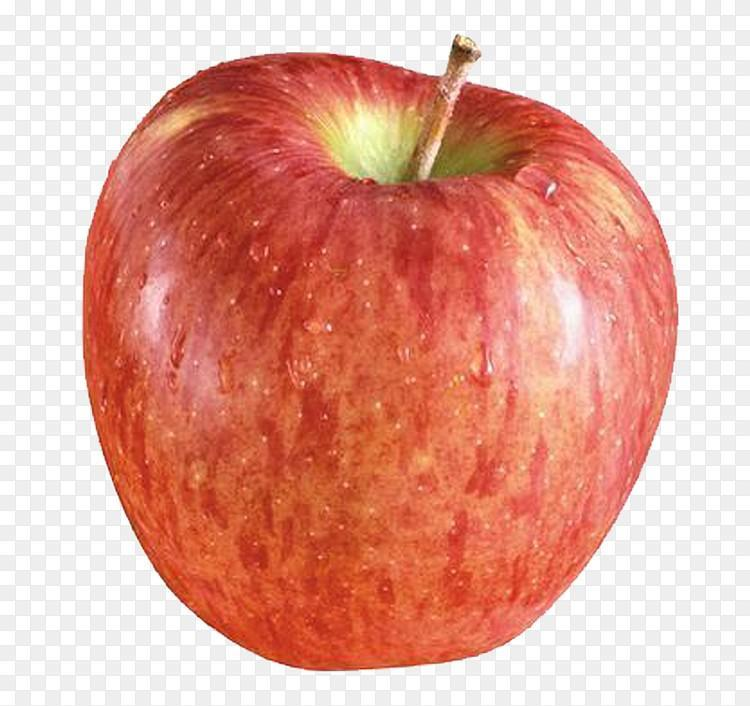apple: (77, 41, 683, 671)
